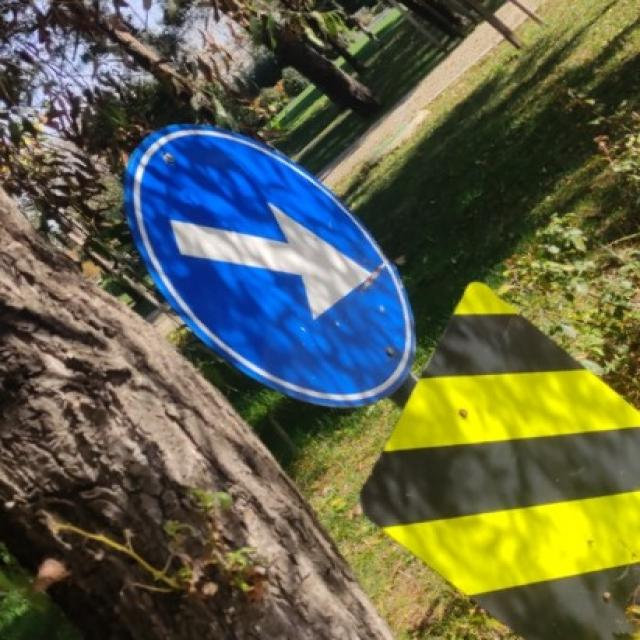Turn Right: (101, 134, 426, 398)
